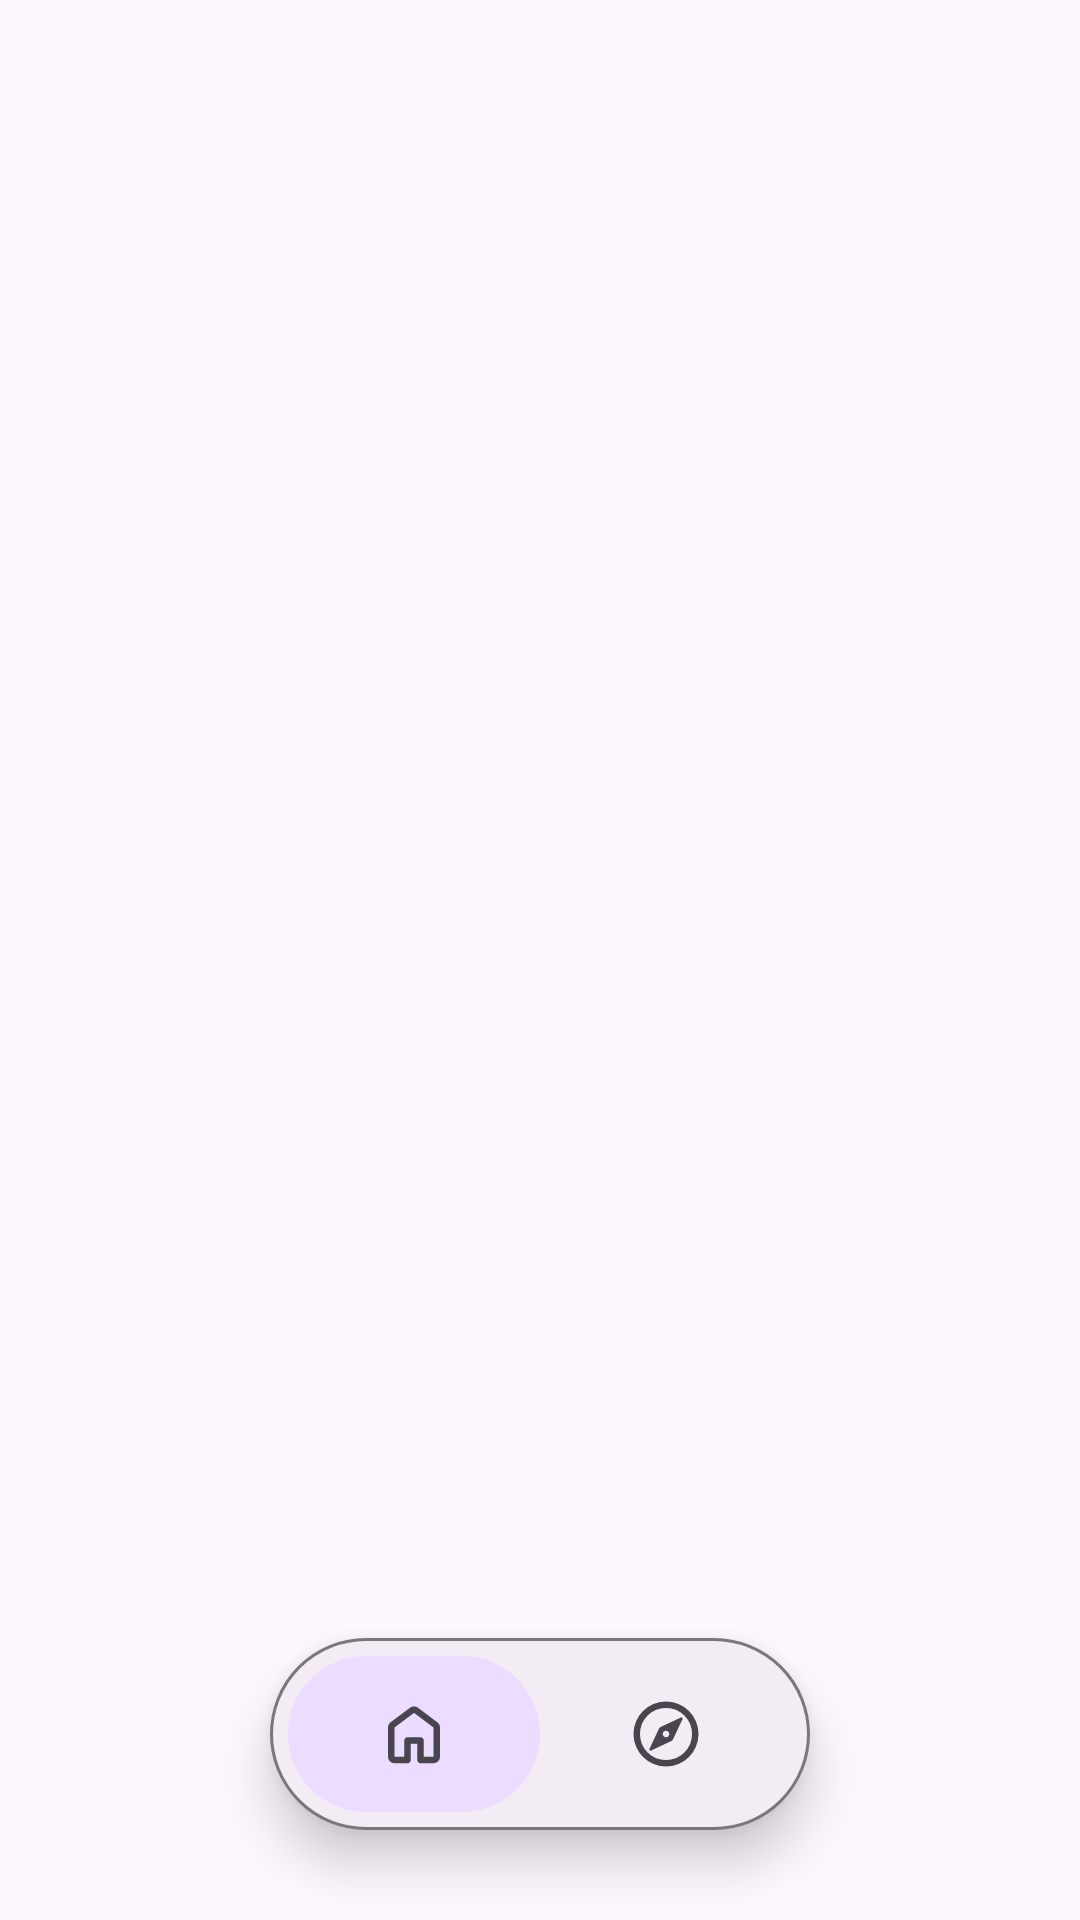

Icon bounding boxes for this 1080x1920 phone screenshot, format (x1, y1, x2, y2):
Explore: (633, 1701, 699, 1767)
